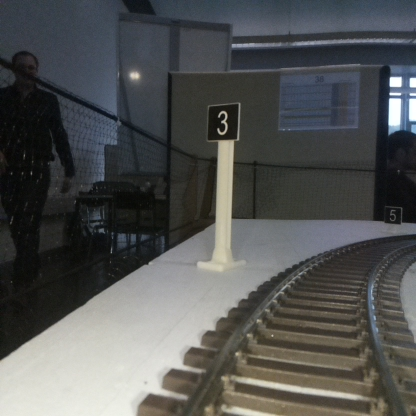black-info-3: (207, 103, 238, 268)
black-stop-5: (385, 207, 401, 231)
